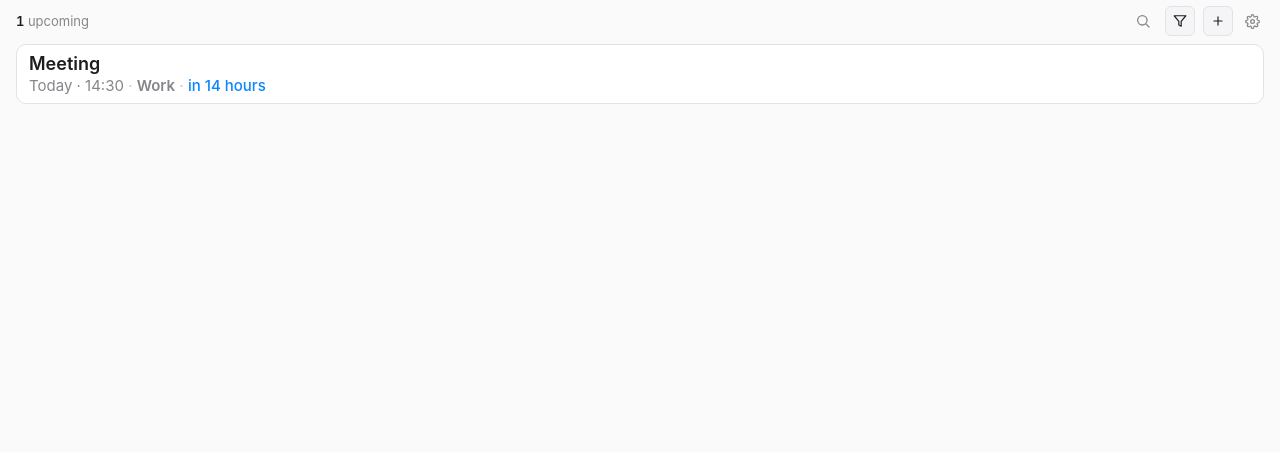
Test: UpcomingStack Field Ordering › renders settings popover with drag to reorder controls
Click the button titled "Panel settings". click: [1252, 21]
box: [1241,10,1264,32]
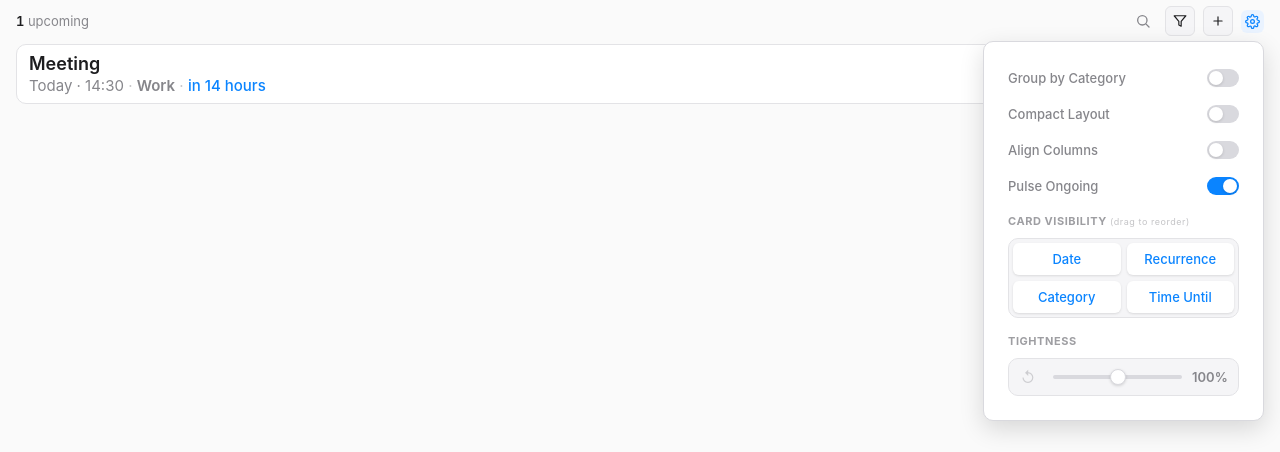
Result: the text "Card Visibility (drag to reorder)" is shown at [1008,214,1190,228]
Result: the text "(drag to reorder)" is shown at [1110,216,1190,227]
Result: the button "Date" is shown at [1013,243,1120,275]
